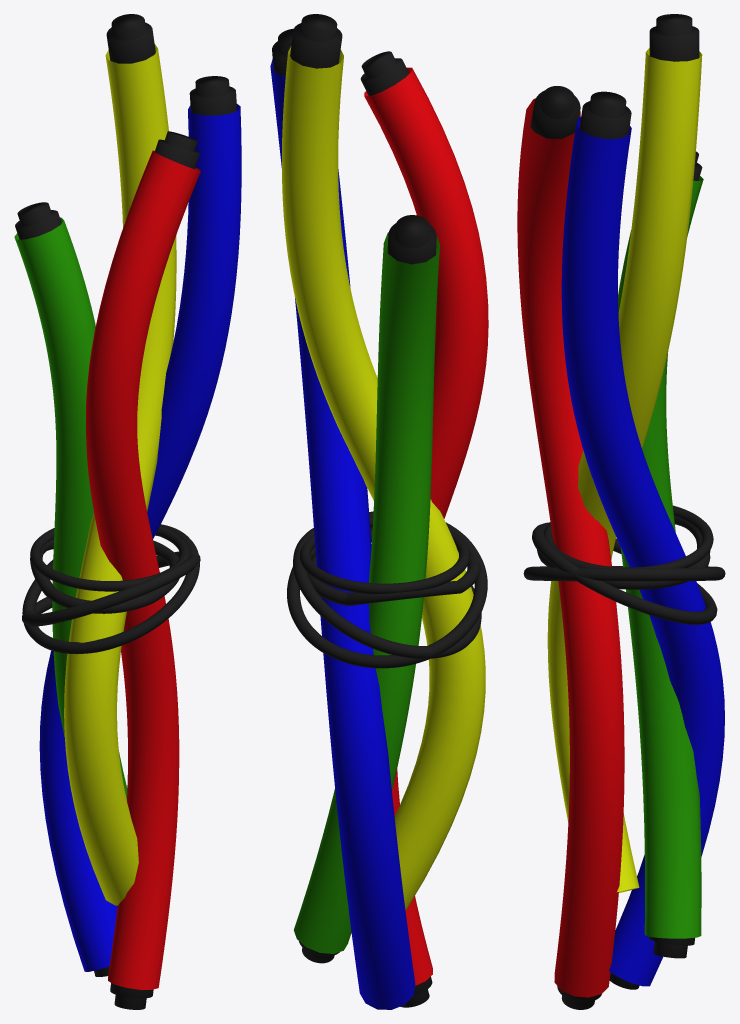
File: NewWires.fbx
The picture shows the model from 3 angles, left to right: view 1: azimuth 30°, elevation 25°; view 2: azimuth 150°, elevation 25°; view 3: azimuth 270°, elevation 25°; orthographic projection. The views are drawn at different scales.
Parts seen in each view (by area): view 1: NurbsPath, NurbsPath.004, NurbsPath.001, NurbsPath.002, NurbsCircle.002, NurbsCircle.003, NurbsCircle.001, Cylinder.002, NurbsCircle, Cylinder.003, Cylinder.005, Cylinder.004 (+1 smaller); view 2: NurbsPath.001, NurbsPath.004, NurbsPath.002, NurbsPath, NurbsCircle.003, NurbsCircle.002, NurbsCircle.001, Cylinder.002, NurbsCircle, Cylinder.005, Cylinder.004, Cylinder.003; view 3: NurbsPath, NurbsPath.004, NurbsPath.001, NurbsPath.002, NurbsCircle.003, NurbsCircle.002, Cylinder.002, Cylinder.004, Cylinder.003, NurbsCircle.001, NurbsCircle, Cylinder.007.
Part boxes in pixels (bbox=[...]): NurbsPath: bbox=[86, 150, 200, 989]; NurbsPath.004: bbox=[39, 104, 241, 971]; NurbsPath.001: bbox=[64, 44, 176, 905]; NurbsPath.002: bbox=[14, 217, 127, 800]; NurbsCircle.002: bbox=[22, 524, 199, 654]; NurbsCircle.003: bbox=[22, 551, 200, 626]; NurbsCircle.001: bbox=[30, 525, 189, 591]; Cylinder.002: bbox=[106, 14, 155, 63]; NurbsCircle: bbox=[30, 539, 179, 613]; Cylinder.003: bbox=[189, 76, 236, 115]; Cylinder.005: bbox=[15, 202, 61, 239]; Cylinder.004: bbox=[154, 131, 199, 169]; NurbsPath.001: bbox=[282, 46, 485, 910]; NurbsPath.004: bbox=[270, 59, 415, 1009]; NurbsPath.002: bbox=[294, 232, 439, 953]; NurbsPath: bbox=[364, 67, 488, 985]; NurbsCircle.003: bbox=[287, 511, 487, 668]; NurbsCircle.002: bbox=[293, 528, 481, 658]; NurbsCircle.001: bbox=[300, 516, 470, 594]; Cylinder.002: bbox=[290, 14, 342, 68]; NurbsCircle: bbox=[307, 529, 480, 605]; Cylinder.005: bbox=[387, 215, 436, 264]; Cylinder.004: bbox=[360, 51, 409, 95]; Cylinder.003: bbox=[272, 28, 293, 75]; NurbsPath: bbox=[517, 98, 624, 997]; NurbsPath.004: bbox=[561, 117, 724, 986]; NurbsPath.001: bbox=[547, 48, 702, 892]; NurbsPath.002: bbox=[618, 176, 703, 938]; NurbsCircle.003: bbox=[532, 522, 717, 624]; NurbsCircle.002: bbox=[523, 566, 725, 581]; Cylinder.002: bbox=[649, 14, 699, 61]; Cylinder.004: bbox=[530, 86, 580, 138]; Cylinder.003: bbox=[579, 91, 631, 139]; NurbsCircle.001: bbox=[544, 505, 713, 568]; NurbsCircle: bbox=[537, 515, 710, 589]; Cylinder.007: bbox=[649, 936, 694, 958].
Size of the model in its own units: 165 by 755 by 141.
